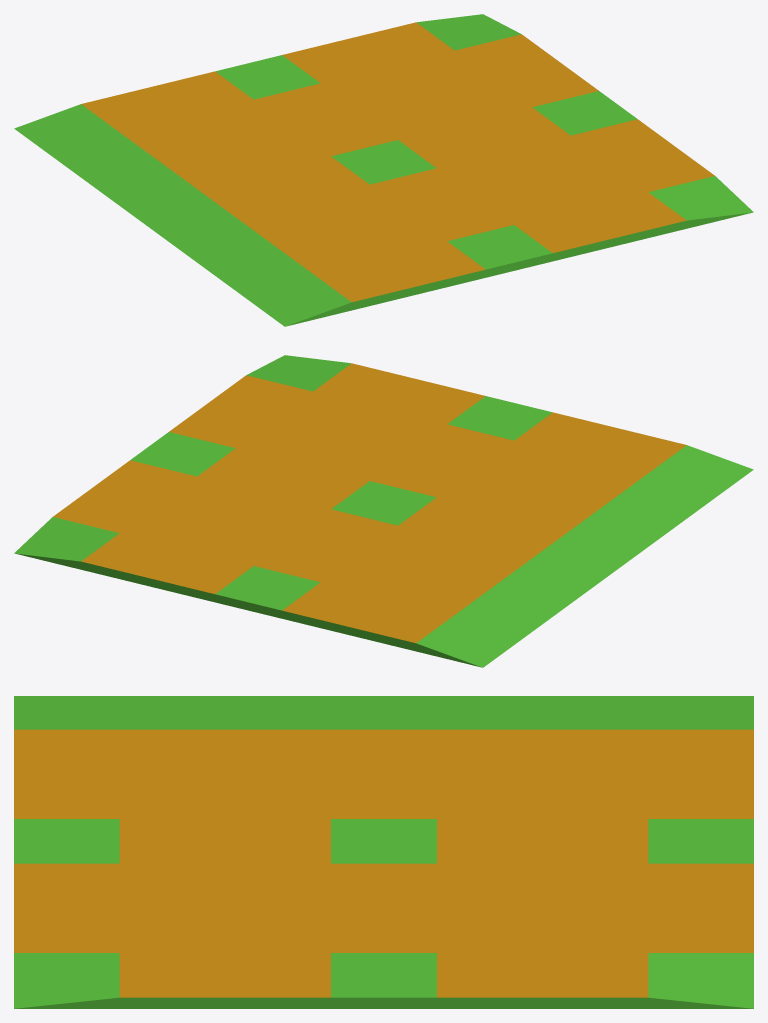
File: Road T.fbx
The picture shows the model from 3 angles, top to bottom: view 1: azimuth 30°, elevation 25°; view 2: azimuth 150°, elevation 25°; view 3: azimuth 270°, elevation 25°; orthographic projection. The views are drawn at different scales.
Visible parts, largest first — view 1: Road T; view 2: Road T; view 3: Road T.
Boxes of the visible parts, x1,y1,x2,y2 form: Road T: (14, 14, 753, 326); Road T: (14, 355, 753, 667); Road T: (14, 696, 753, 1008).
Size of the model in its own units: 1200 by 20 by 1200.
